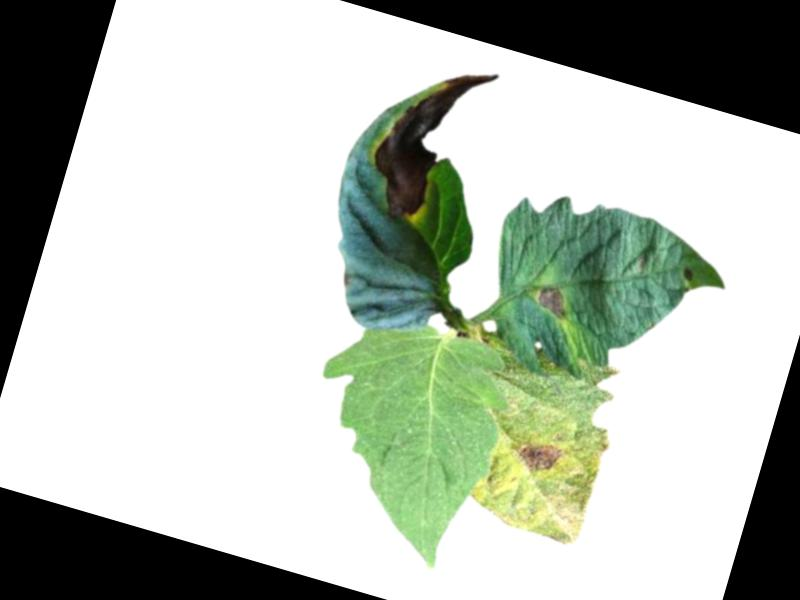Early_blight: (356, 47, 501, 239), (511, 432, 564, 477), (530, 282, 574, 323), (677, 265, 694, 284)
healthy: (274, 296, 525, 579)
